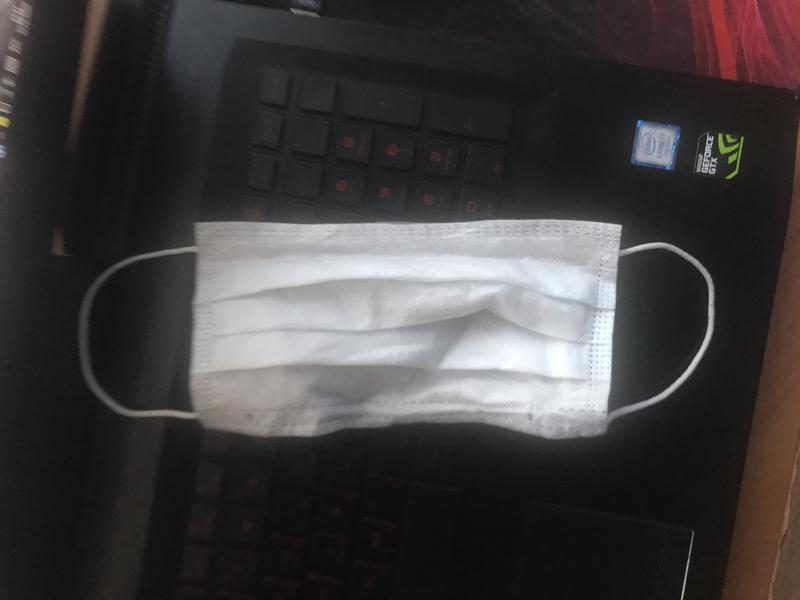medical_mask: (77, 218, 714, 439)
